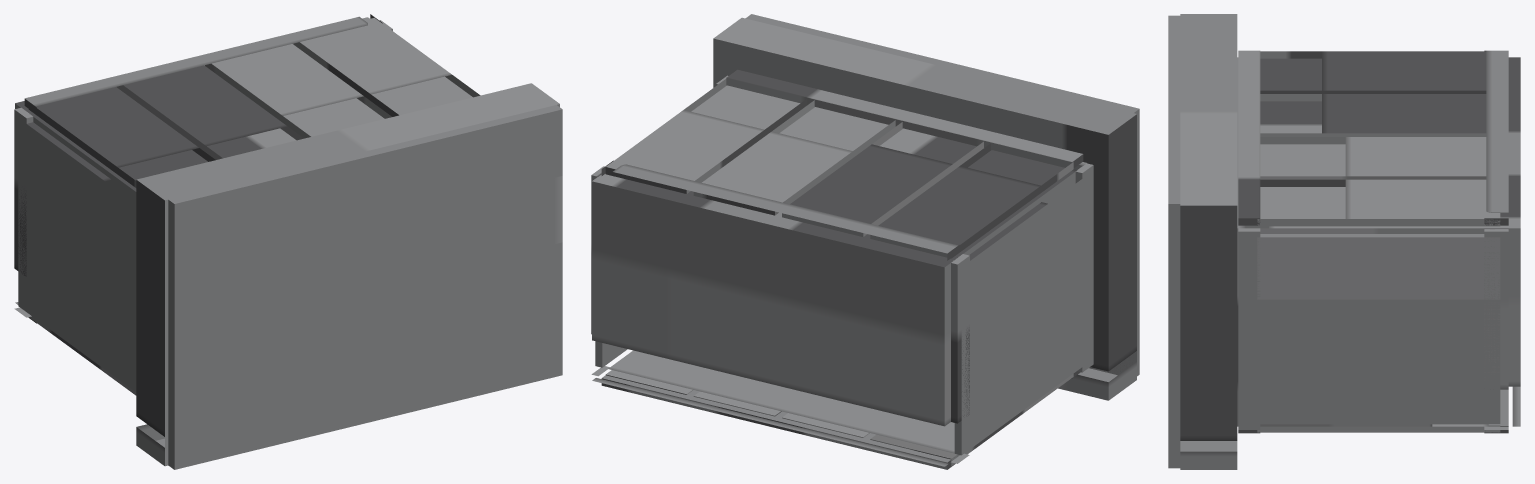
3 renders of one model, left to right at view 1: azimuth 30°, elevation 25°; view 2: azimuth 150°, elevation 25°; view 3: azimuth 270°, elevation 25°, orthographic.
Size of the model in its own units: 1.12 by 0.72 by 0.87.
